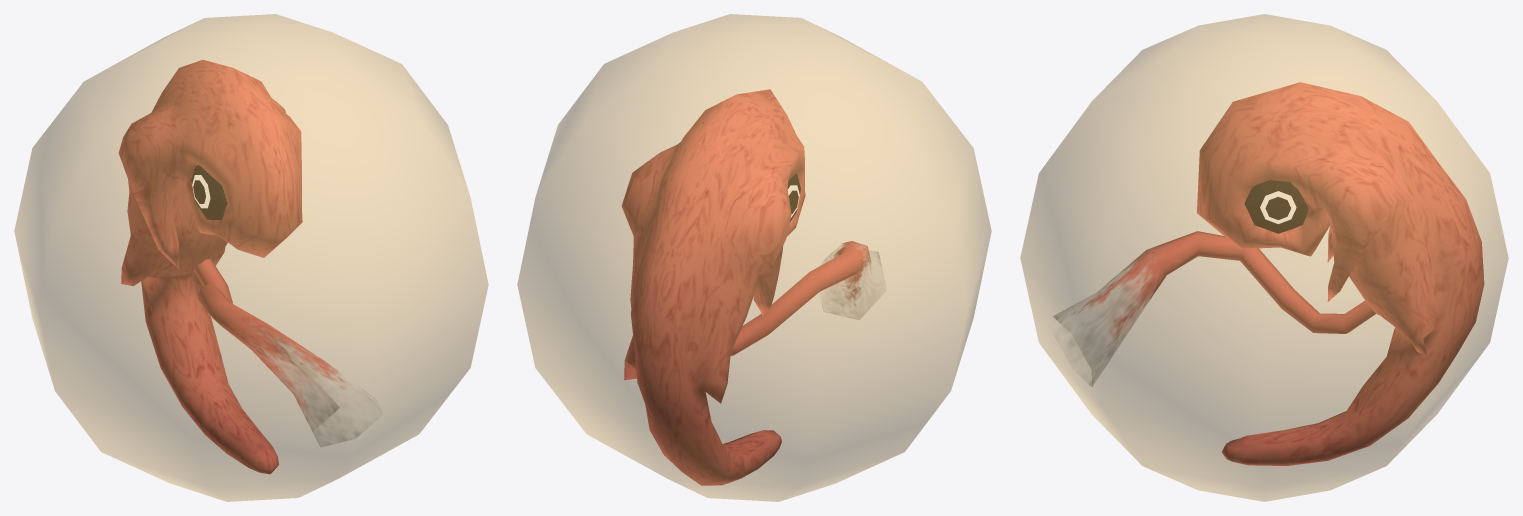
File: newegg.glb
3 views of the same model, side by side, from view 1: azimuth 30°, elevation 25°; view 2: azimuth 150°, elevation 25°; view 3: azimuth 270°, elevation 25° (orthographic).
Parts seen in each view (by area): view 1: Sphere_001, Retopo_SymmVert, NurbsPath; view 2: Sphere_001, Retopo_SymmVert, NurbsPath; view 3: Sphere_001, Retopo_SymmVert, NurbsPath.
Boxes of the visible parts, x1,y1,x2,y2 form: Sphere_001: [14, 14, 488, 501]; Retopo_SymmVert: [118, 60, 302, 474]; NurbsPath: [194, 258, 359, 444]; Sphere_001: [517, 14, 991, 501]; Retopo_SymmVert: [622, 89, 805, 485]; NurbsPath: [730, 241, 880, 355]; Sphere_001: [1020, 14, 1508, 501]; Retopo_SymmVert: [1197, 82, 1484, 465]; NurbsPath: [1053, 231, 1375, 385].
Size of the model in its own units: 4.17 by 4.17 by 4.17.
Materials: 5 (2 with a texture image).
